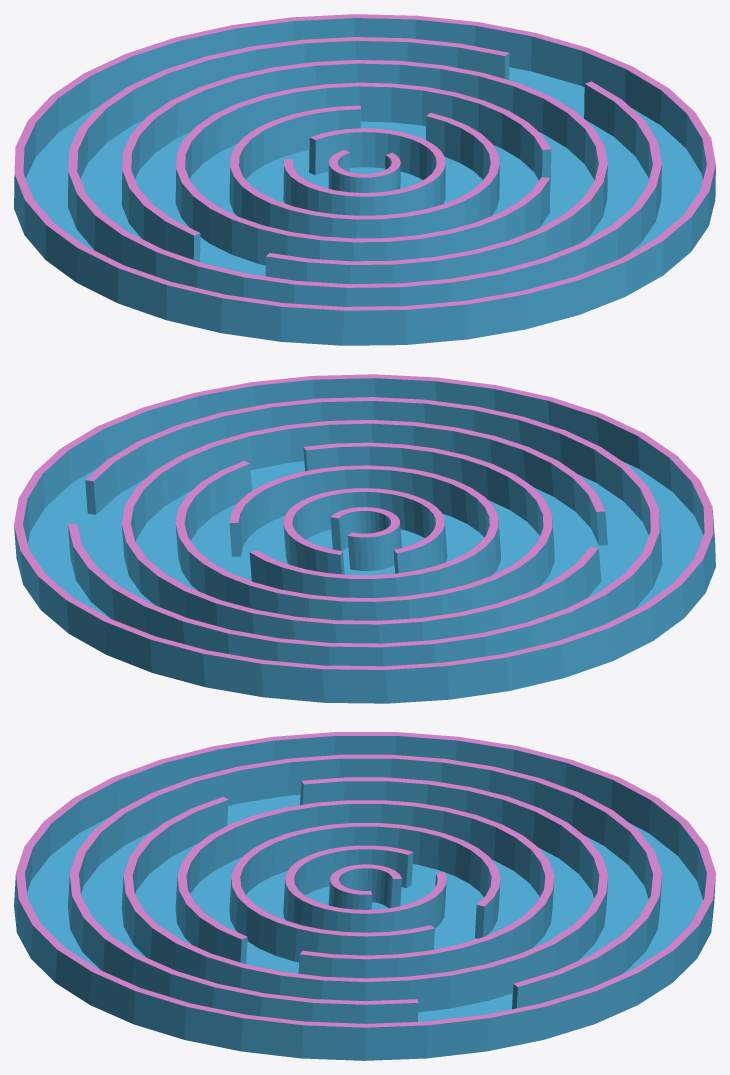
File: Maze Level 4.fbx
3 renders of one model, top to bottom at view 1: azimuth 30°, elevation 25°; view 2: azimuth 150°, elevation 25°; view 3: azimuth 270°, elevation 25°, orthographic.
Parts seen in each view (by area): view 1: Vert; view 2: Vert; view 3: Vert.
Part boxes in pixels (<box>): Vert: <box>14,14,715,345</box>; Vert: <box>14,374,715,703</box>; Vert: <box>14,732,715,1060</box>.
Bounding box in the file's own units: 524 × 28 × 525.
